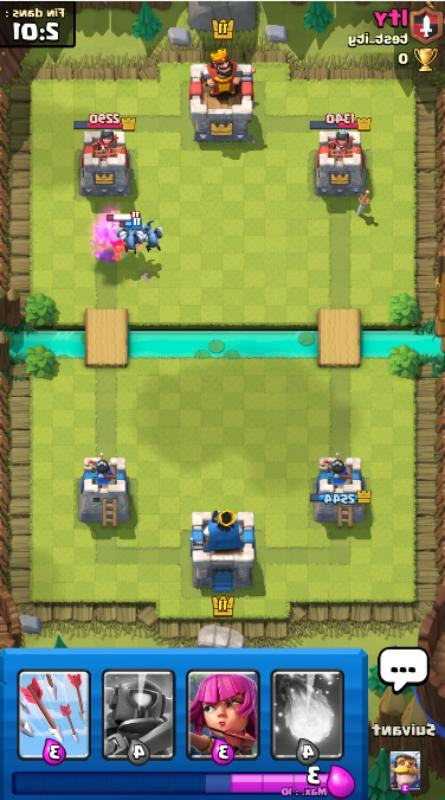chevalier: (95, 210, 143, 263)
gargouille: (113, 217, 144, 255), (139, 219, 165, 253)
